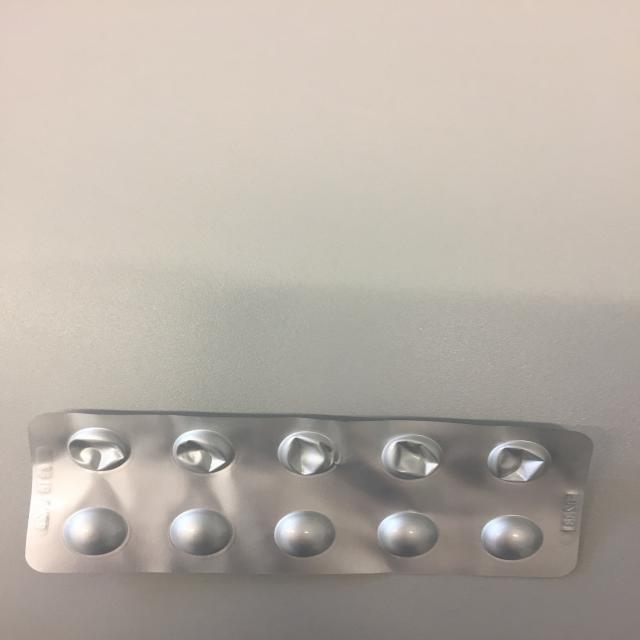Empty: (272, 428, 348, 478), (167, 428, 244, 476), (61, 425, 135, 474), (378, 430, 446, 482), (484, 438, 554, 486)
Pill: (473, 510, 548, 565), (60, 503, 134, 558), (160, 505, 238, 557), (369, 508, 444, 560), (268, 508, 340, 561)
